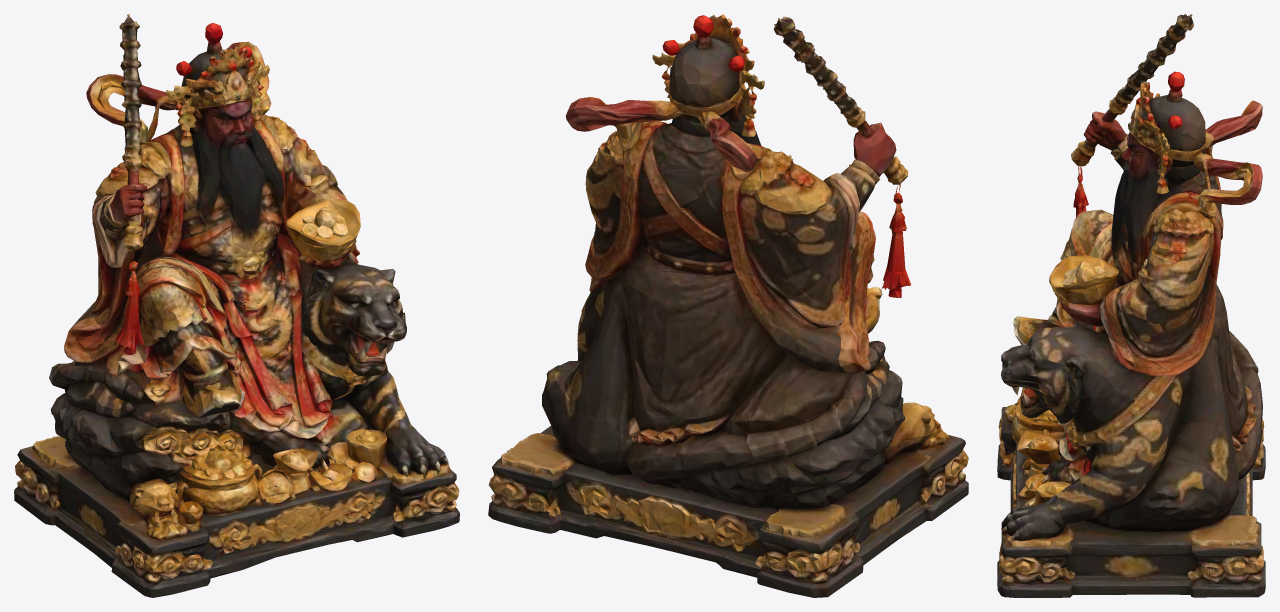
File: caishen-lite.glb
3 views of the same model, side by side, from view 1: azimuth 30°, elevation 25°; view 2: azimuth 150°, elevation 25°; view 3: azimuth 270°, elevation 25° (orthographic). The views are drawn at different scales.
Bounding box in the file's own units: 0.6584 × 0.9807 × 0.5036.
Materials: 1 (1 with a texture image).
